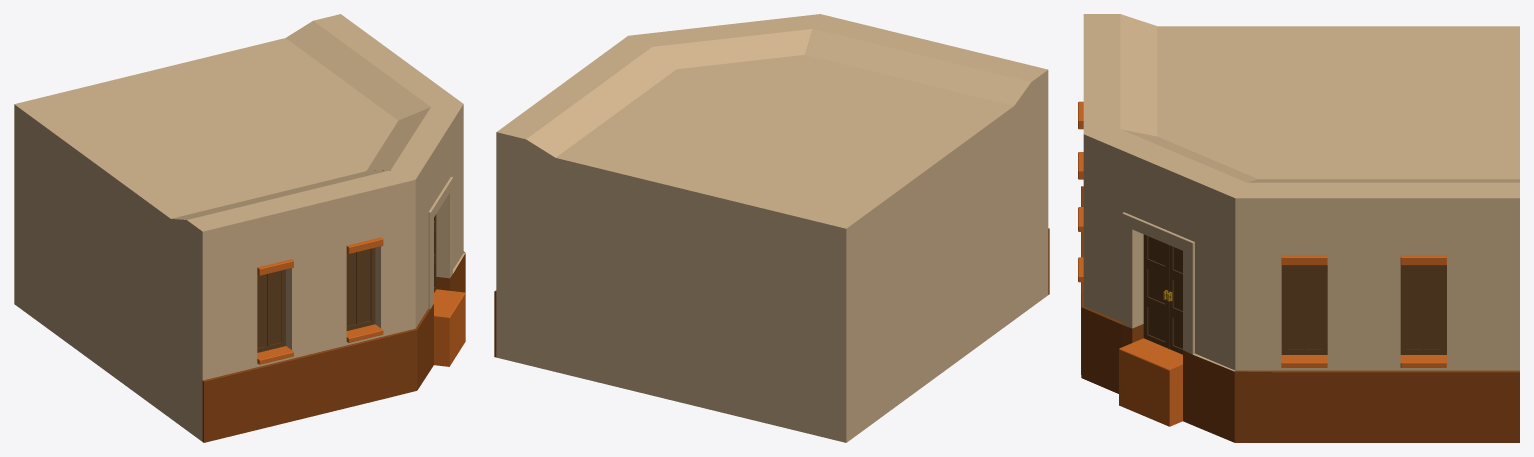
The model's file is Edificio_Grande_Esquina01.fbx.
3 renders of one model, left to right at view 1: azimuth 30°, elevation 25°; view 2: azimuth 150°, elevation 25°; view 3: azimuth 270°, elevation 25°, orthographic. The views are drawn at different scales.
Parts seen in each view (by area): view 1: Edificio_Esquina01; view 2: Edificio_Esquina01; view 3: Edificio_Esquina01.
Boxes of the visible parts, left/top/right/bottom form: Edificio_Esquina01: left=14, top=14, right=465, bottom=442; Edificio_Esquina01: left=494, top=14, right=1049, bottom=442; Edificio_Esquina01: left=1078, top=14, right=1519, bottom=442.
Bounding box in the file's own units: 822 × 500 × 822.
